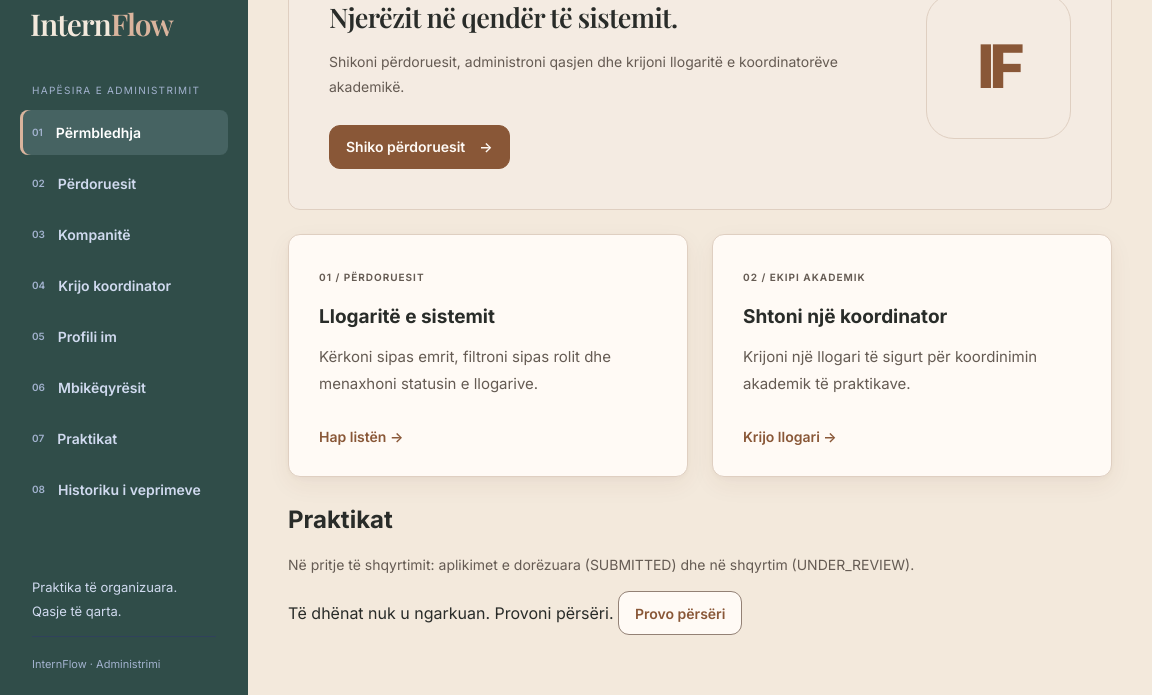
Test case: does not invent zero statistics on failure and supports retry
(page scrolled)
Expected: the message shows "Të dhënat nuk u ngarkuan.", [288,603,614,623]
Expected: the text "Gjithsej praktika" is not shown
Click the button "Provo përsëri" at (680, 613), box [618,591,742,635]
(page scrolled)
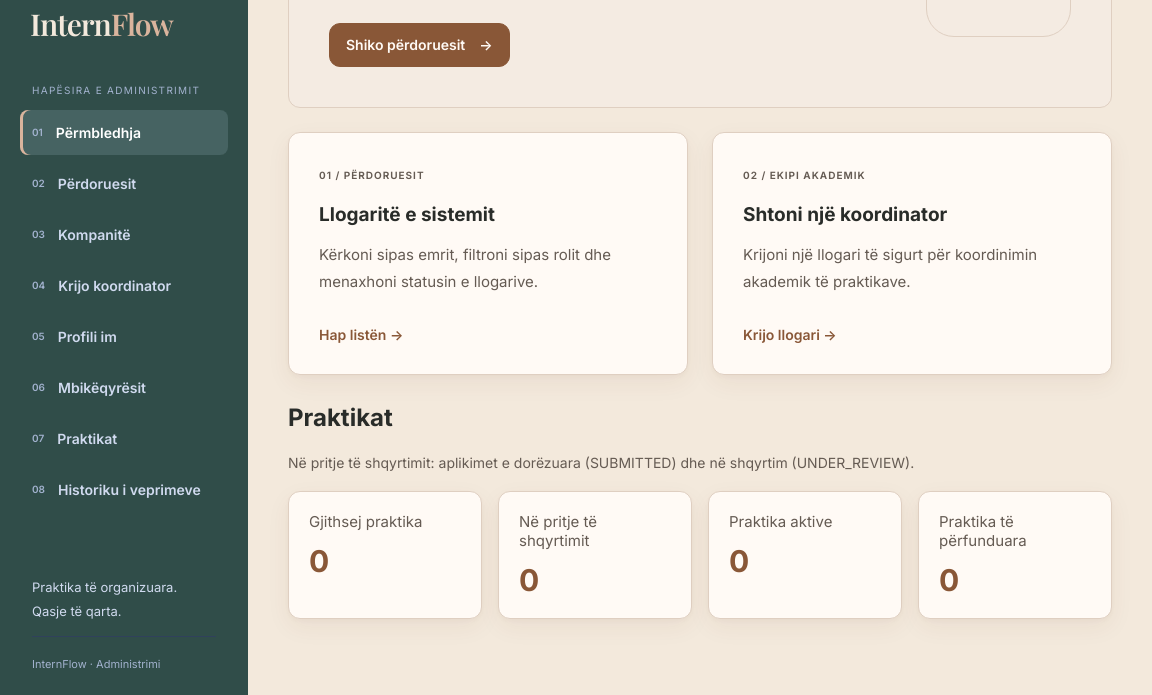
Expected: the text "Gjithsej praktika" is shown, [309,512,422,531]
